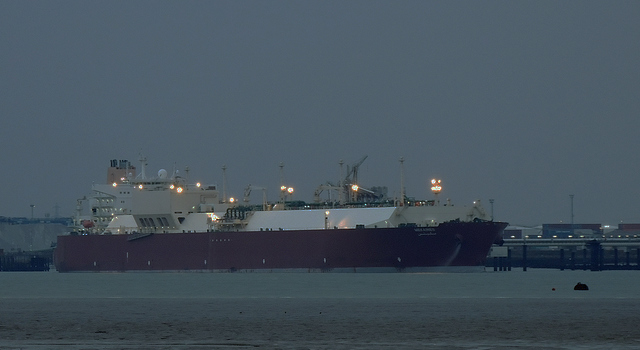LNG_ship: (55, 159, 506, 270)
